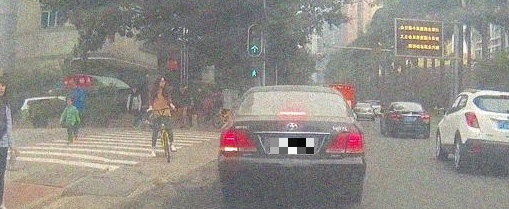L_light: (219, 129, 256, 152), (390, 114, 401, 121)
R_light: (325, 132, 364, 153), (420, 114, 430, 121)
T_light: (280, 112, 305, 116), (404, 103, 410, 104)
day-left: (218, 85, 365, 203)
day-no: (390, 102, 430, 139)
plate_1: (270, 138, 314, 154)
